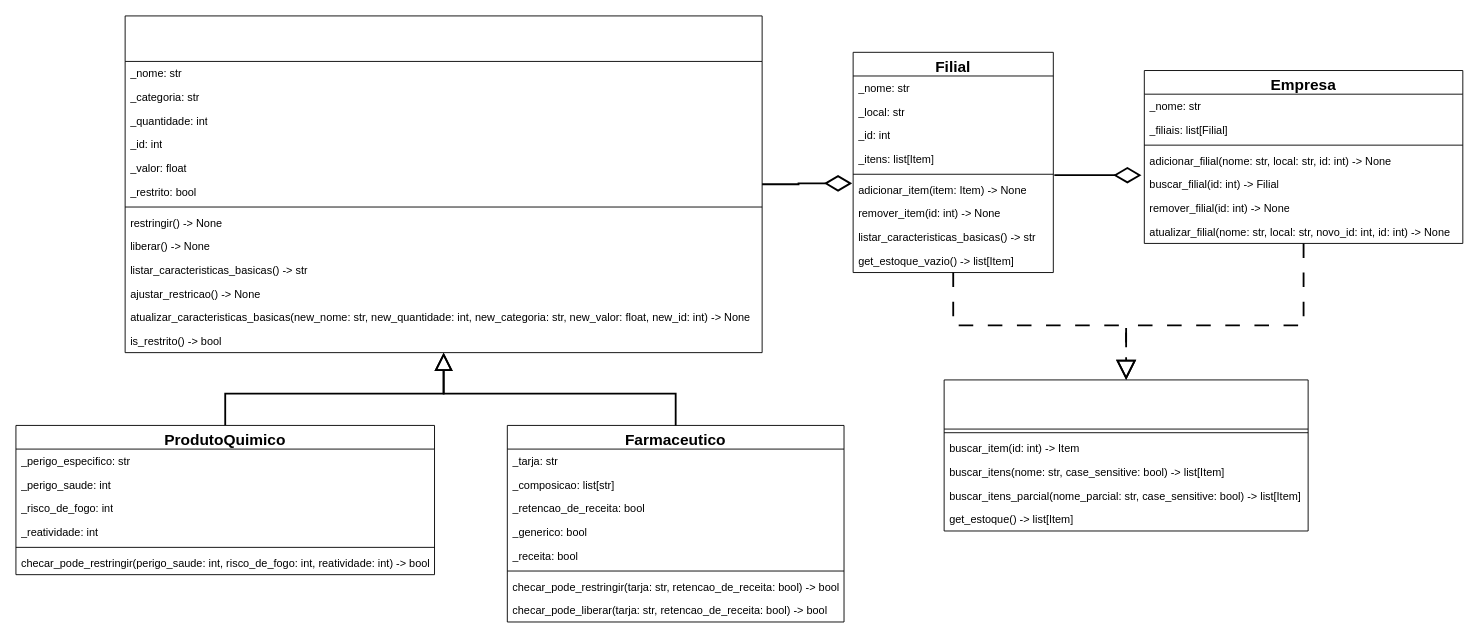
The diagram is 1479 pixels wide and 641 high, and some of its shapes have lost their labels. Each missing label, with the box of its shape:
<<abstract>> Item: (124, 15, 762, 353)
<<interface>> LeitorDeEstoque: (943, 379, 1308, 531)
